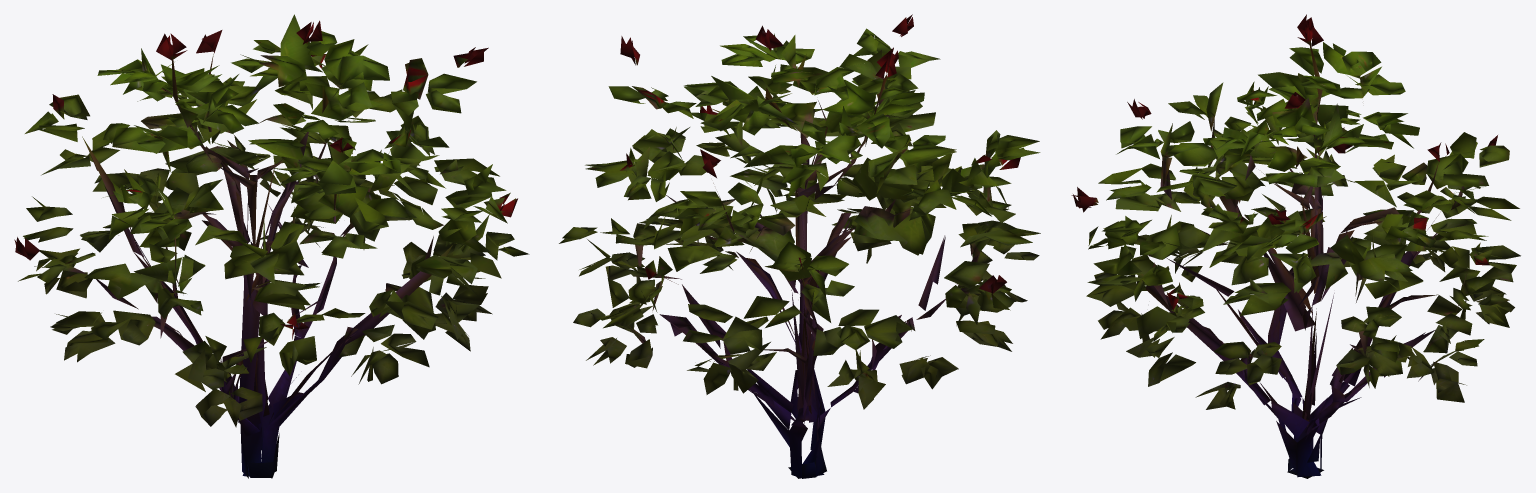
The model's file is environment.hibiscus-shrub-01.lod1.glb.
3 views of the same model, side by side, from view 1: azimuth 30°, elevation 25°; view 2: azimuth 150°, elevation 25°; view 3: azimuth 270°, elevation 25° (orthographic). The views are drawn at different scales.
Visible parts, largest first — view 1: environment.hibiscus-shrub-01_LOD1_00; view 2: environment.hibiscus-shrub-01_LOD1_00; view 3: environment.hibiscus-shrub-01_LOD1_00.
Part boxes in pixels (bbox=[...]): environment.hibiscus-shrub-01_LOD1_00: bbox=[14, 14, 529, 478]; environment.hibiscus-shrub-01_LOD1_00: bbox=[559, 14, 1040, 478]; environment.hibiscus-shrub-01_LOD1_00: bbox=[1071, 14, 1520, 478].
Bounding box in the file's own units: 1.1 × 1.1 × 1.08.
1 material, 1 textured.
